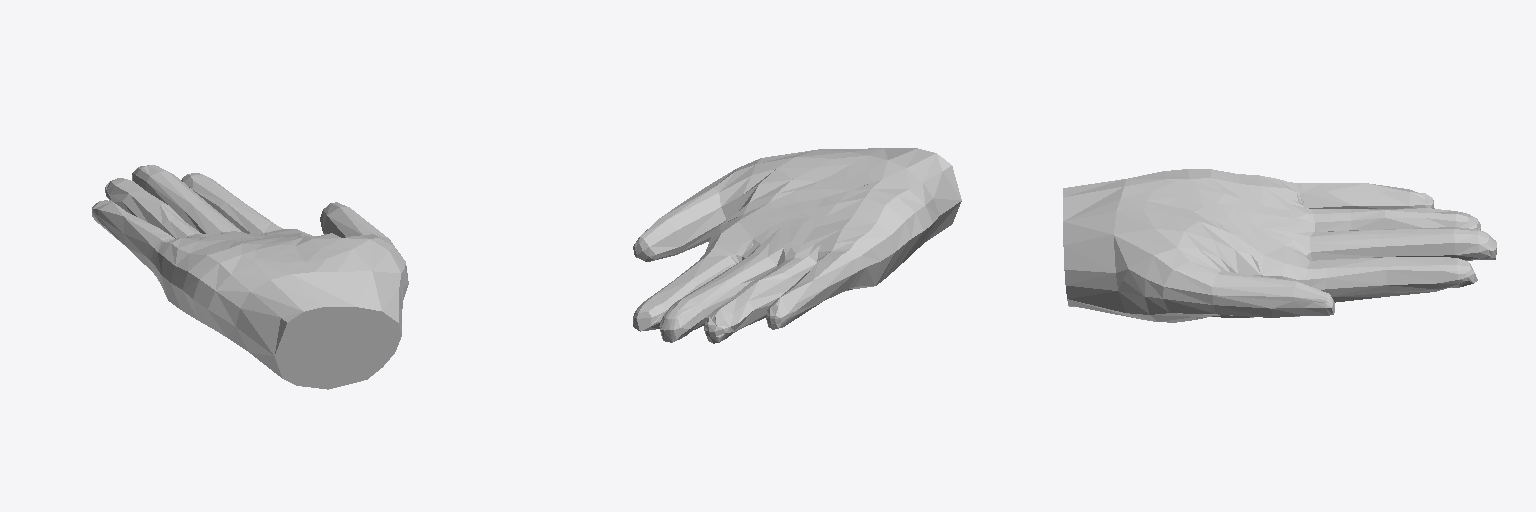
The model's file is R_WRIST_R.obj.
3 views of the same model, side by side, from view 1: azimuth 30°, elevation 25°; view 2: azimuth 150°, elevation 25°; view 3: azimuth 270°, elevation 25° (orthographic).
Visible parts, largest first — view 1: 0; view 2: 0; view 3: 0.
Part boxes in pixels (x1,y1,x2,y2): 0: (92,165,408,389); 0: (633,148,961,343); 0: (1063,169,1496,322).
Size of the model in its own units: 0.1032 by 0.044 by 0.1768.